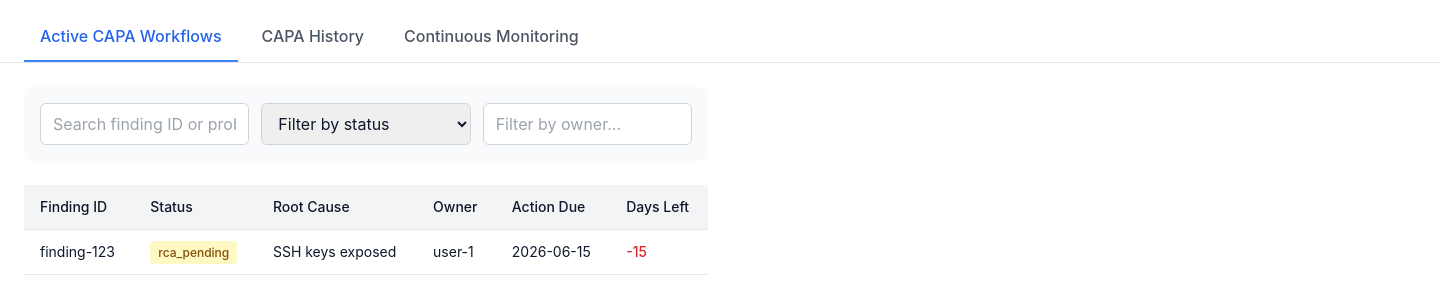
Test case: CapaAndMonitoringTab › Monitoring Tab › should switch to Monitoring tab on click
Click the button "Continuous Monitoring" at (491, 37), box [388,12,595,62]
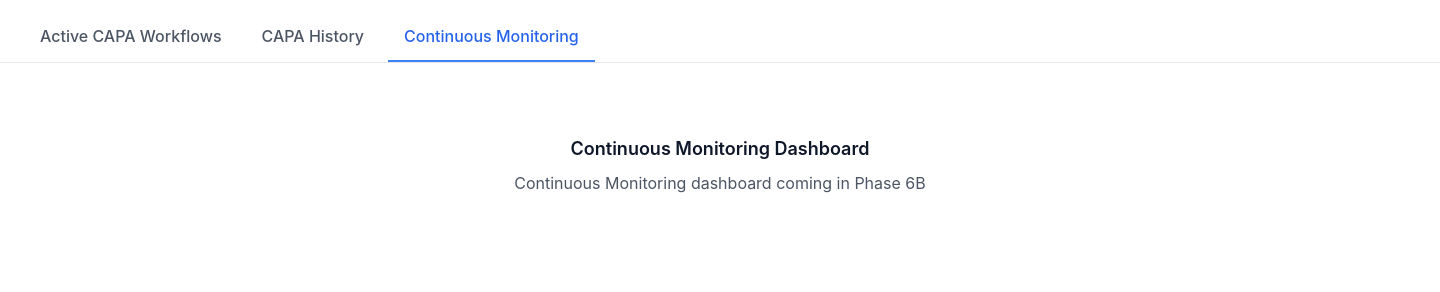
Expected: the text "Continuous Monitoring dashboard coming in Phase 6B" is shown, [514,173,926,193]
